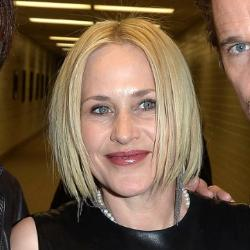face: (43, 12, 211, 214)
